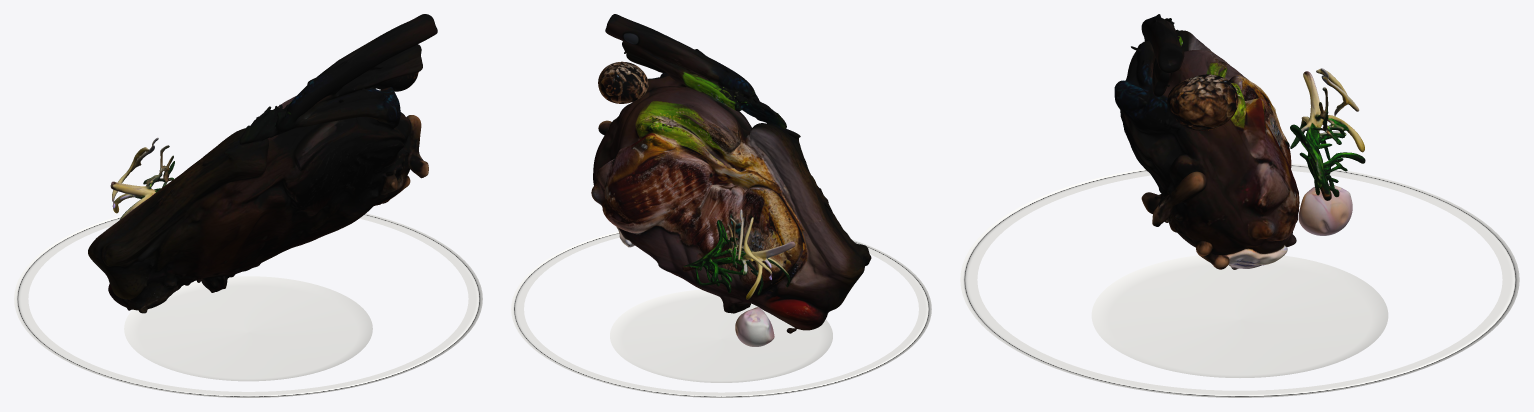
Rendered from realistic-steak-board-plated.glb.
3 renders of one model, left to right at view 1: azimuth 30°, elevation 25°; view 2: azimuth 150°, elevation 25°; view 3: azimuth 270°, elevation 25°, orthographic. The views are drawn at different scales.
Parts seen in each view (by area): view 1: tripo_node_5b248456-122d-4617-8a5d-160a99fc3df6, porcelain-plate; view 2: tripo_node_5b248456-122d-4617-8a5d-160a99fc3df6, porcelain-plate; view 3: porcelain-plate, tripo_node_5b248456-122d-4617-8a5d-160a99fc3df6.
Boxes of the visible parts, box(x1,y1,x2,y2) form: tripo_node_5b248456-122d-4617-8a5d-160a99fc3df6: box(88, 14, 437, 313); porcelain-plate: box(14, 213, 482, 397); tripo_node_5b248456-122d-4617-8a5d-160a99fc3df6: box(591, 14, 871, 346); porcelain-plate: box(511, 231, 931, 397); porcelain-plate: box(960, 163, 1519, 397); tripo_node_5b248456-122d-4617-8a5d-160a99fc3df6: box(1114, 14, 1365, 269).
Bounding box in the file's own units: 0.3626 × 0.2599 × 0.3626.
Materials: 2 (1 with a texture image).
